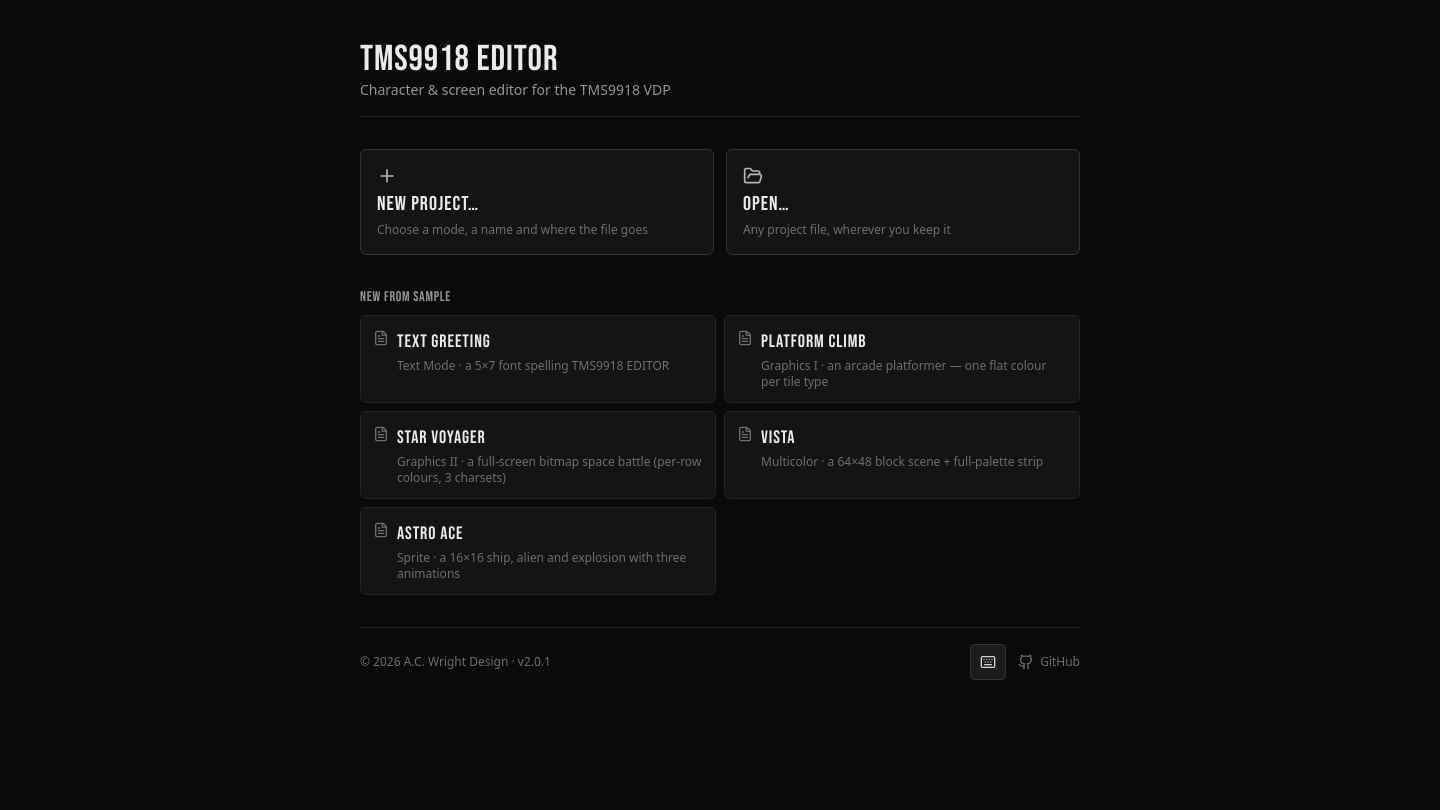
Scenario: StartView › shows where a new document would go, and lets it be moved (D10)
Click the button "New Project… Choose a mode, a name and where the file goes": x=428, y=204 [360, 149, 714, 255]
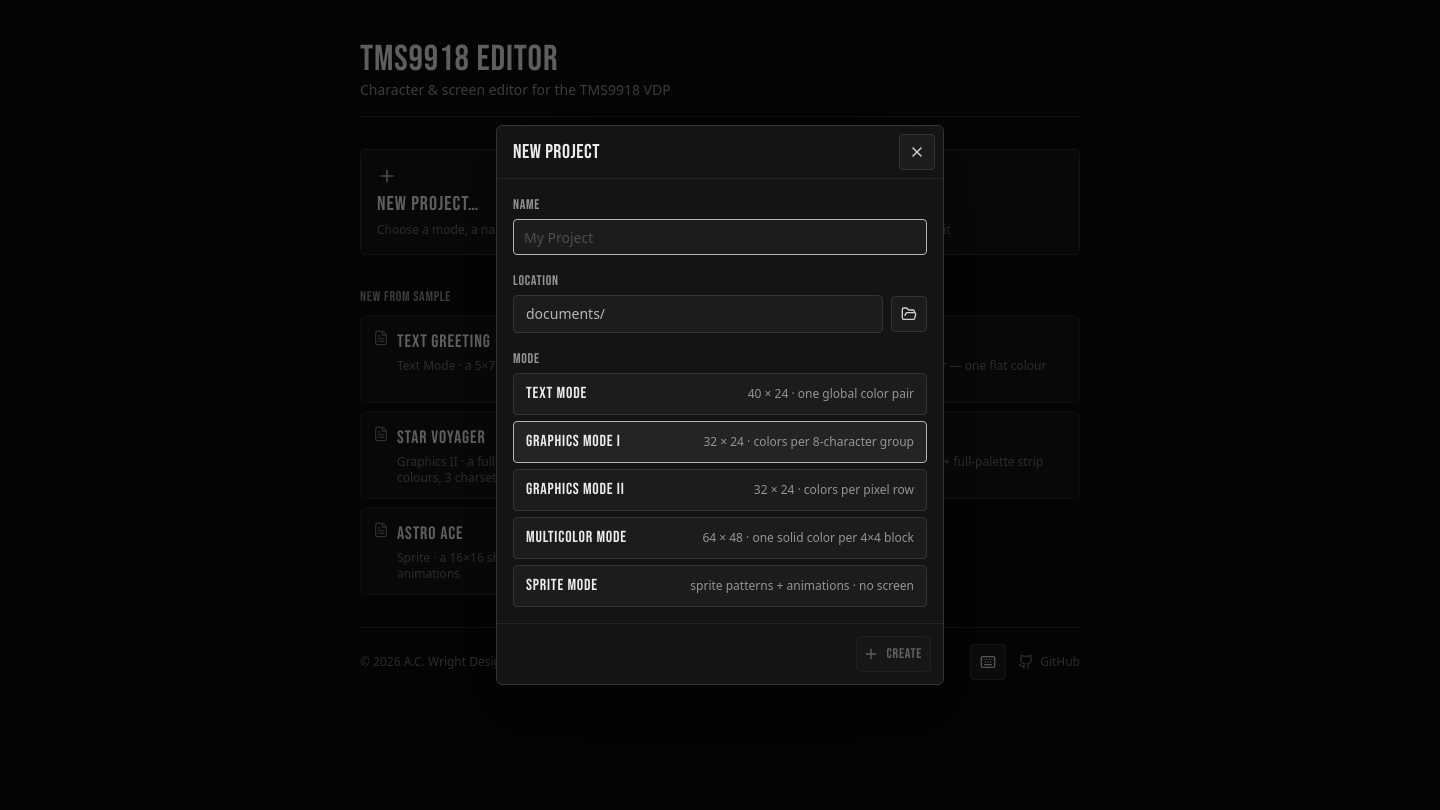
Now the text "/documents" is shown, box [513, 295, 883, 333]
